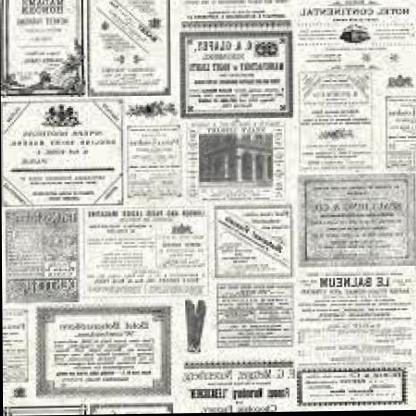Paper: (0, 2, 416, 416)
